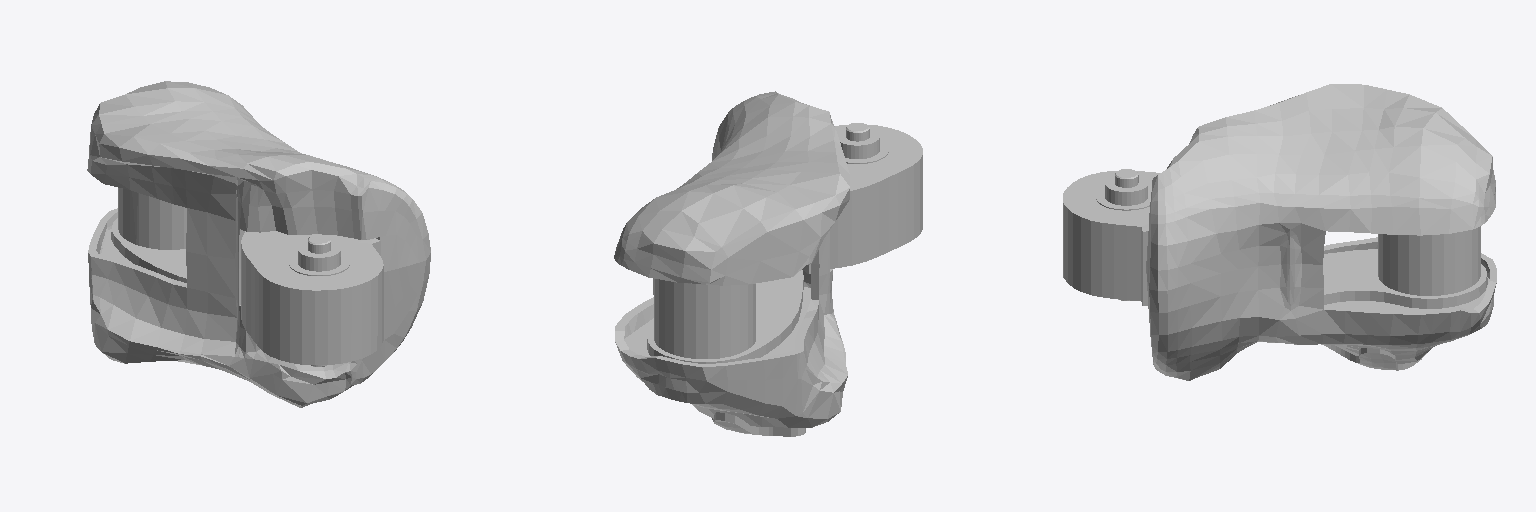
Rendered from RKneePitch.obj.
The picture shows the model from 3 angles: view 1: azimuth 30°, elevation 25°; view 2: azimuth 150°, elevation 25°; view 3: azimuth 270°, elevation 25°; orthographic projection.
Visible parts, largest first — view 1: root; view 2: root; view 3: root.
Part boxes in pixels (left/top/right/bottom): root: left=87, top=81, right=430, bottom=407; root: left=614, top=91, right=922, bottom=436; root: left=1063, top=84, right=1496, bottom=380.
Size of the model in its own units: 89.68 by 93.29 by 148.